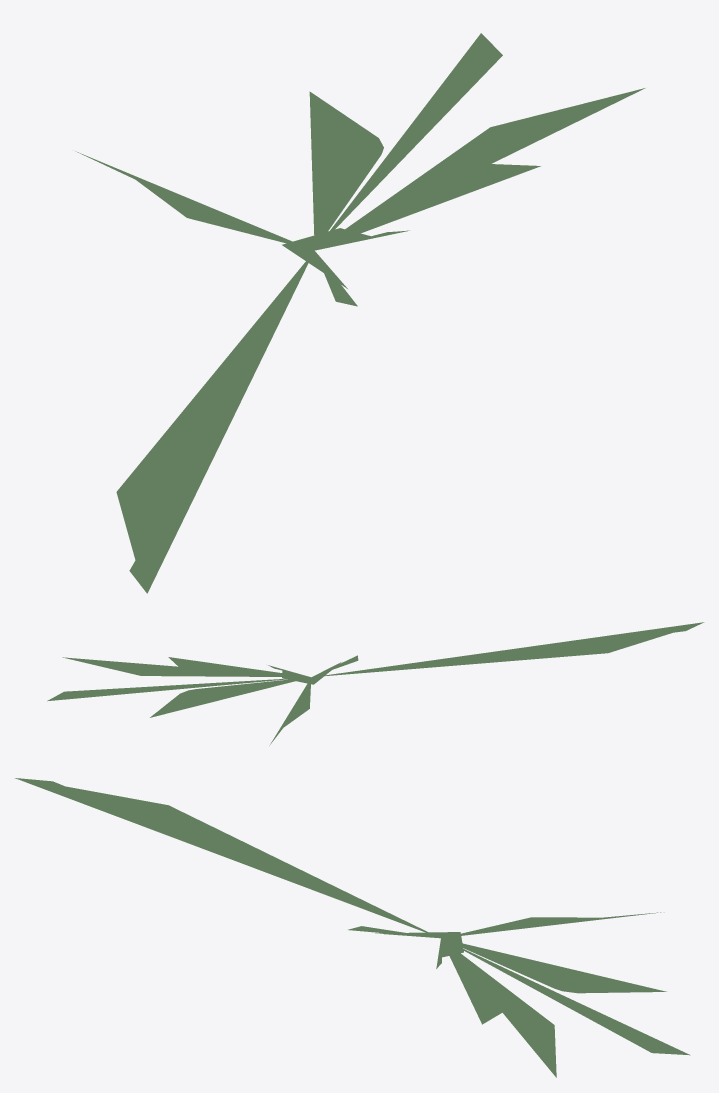
File: c_1643_17837_forest.glb
The picture shows the model from 3 angles, top to bottom: view 1: azimuth 30°, elevation 25°; view 2: azimuth 150°, elevation 25°; view 3: azimuth 270°, elevation 25°; orthographic projection. The views are drawn at different scales.
Visible parts, largest first — view 1: geometry_0; view 2: geometry_0; view 3: geometry_0.
Part boxes in pixels (x1=…): geometry_0: x1=75, y1=33, x2=645, y2=593; geometry_0: x1=47, y1=622, x2=704, y2=745; geometry_0: x1=15, y1=778, x2=690, y2=1077.
Size of the model in its own units: 499 by 0 by 481.
